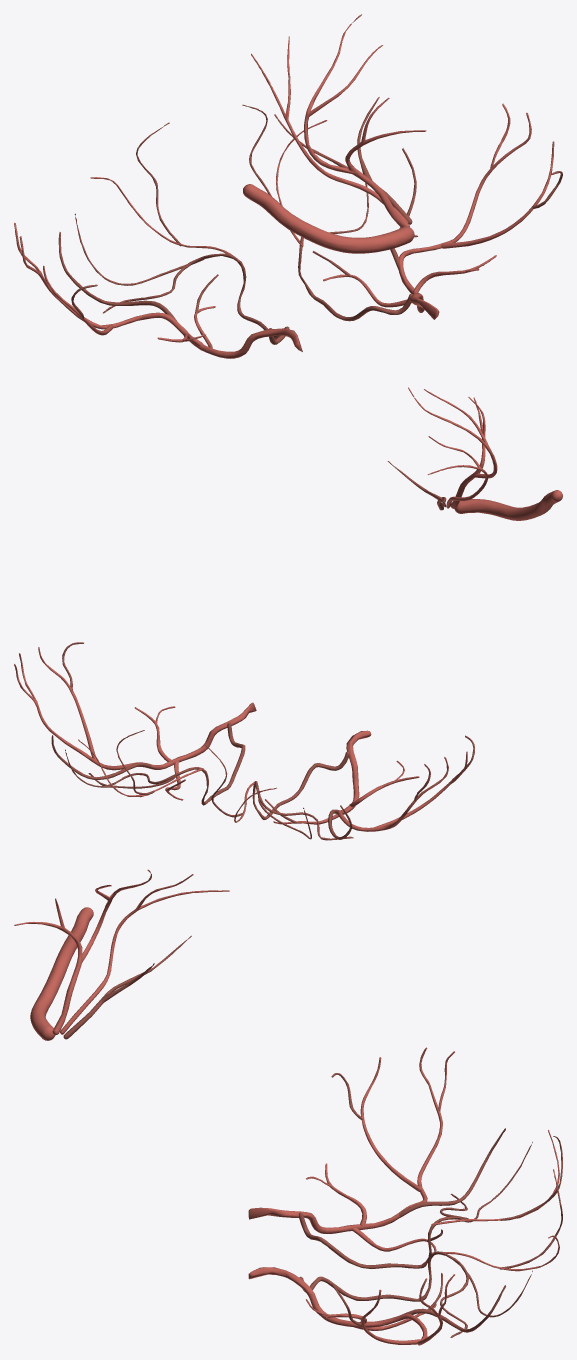
Rendered from cranial-artery-components.glb.
The picture shows the model from 3 angles, top to bottom: view 1: azimuth 30°, elevation 25°; view 2: azimuth 150°, elevation 25°; view 3: azimuth 270°, elevation 25°; orthographic projection. The views are drawn at different scales.
Parts seen in each view (by area): view 1: FMA50082_FJ1662, FMA50082_FJ1692, FMA50519_FJ1715, FMA50520_FJ1715M, FMA50519_FJ1711, FMA50520_FJ1711M, FMA50082_FJ1663, FMA50520_FJ1706M, FMA50519_FJ1705; view 2: FMA50082_FJ1662, FMA50082_FJ1692, FMA50520_FJ1715M, FMA50519_FJ1715, FMA50519_FJ1711, FMA50520_FJ1711M; view 3: FMA50082_FJ1662, FMA50082_FJ1692, FMA50519_FJ1715, FMA50520_FJ1715M, FMA50520_FJ1711M, FMA50519_FJ1711, FMA50082_FJ1663, FMA50519_FJ1706, FMA50519_FJ1705.
Part boxes in pixels (x1,y1,x2,y2): FMA50082_FJ1662: (251, 14, 426, 227); FMA50082_FJ1692: (243, 184, 414, 253); FMA50519_FJ1715: (19, 236, 302, 358); FMA50520_FJ1715M: (398, 112, 531, 319); FMA50519_FJ1711: (103, 253, 289, 344); FMA50520_FJ1711M: (298, 235, 417, 321); FMA50082_FJ1663: (274, 97, 412, 224); FMA50520_FJ1706M: (441, 141, 554, 248); FMA50519_FJ1705: (58, 232, 176, 320); FMA50082_FJ1662: (408, 387, 497, 508); FMA50082_FJ1692: (454, 490, 562, 520); FMA50520_FJ1715M: (19, 653, 256, 770); FMA50519_FJ1715: (336, 730, 448, 831); FMA50519_FJ1711: (252, 751, 353, 840); FMA50520_FJ1711M: (88, 722, 245, 805); FMA50082_FJ1662: (14, 869, 229, 1035); FMA50082_FJ1692: (30, 907, 93, 1040); FMA50519_FJ1715: (248, 1047, 442, 1233); FMA50520_FJ1715M: (248, 1267, 442, 1345); FMA50520_FJ1711M: (299, 1251, 469, 1337); FMA50519_FJ1711: (298, 1193, 468, 1268); FMA50082_FJ1663: (63, 935, 191, 1039); FMA50519_FJ1706: (360, 1057, 420, 1191); FMA50519_FJ1705: (399, 1128, 505, 1217).
Bounding box in the file's own units: 1.07 × 0.8419 × 1.07.
